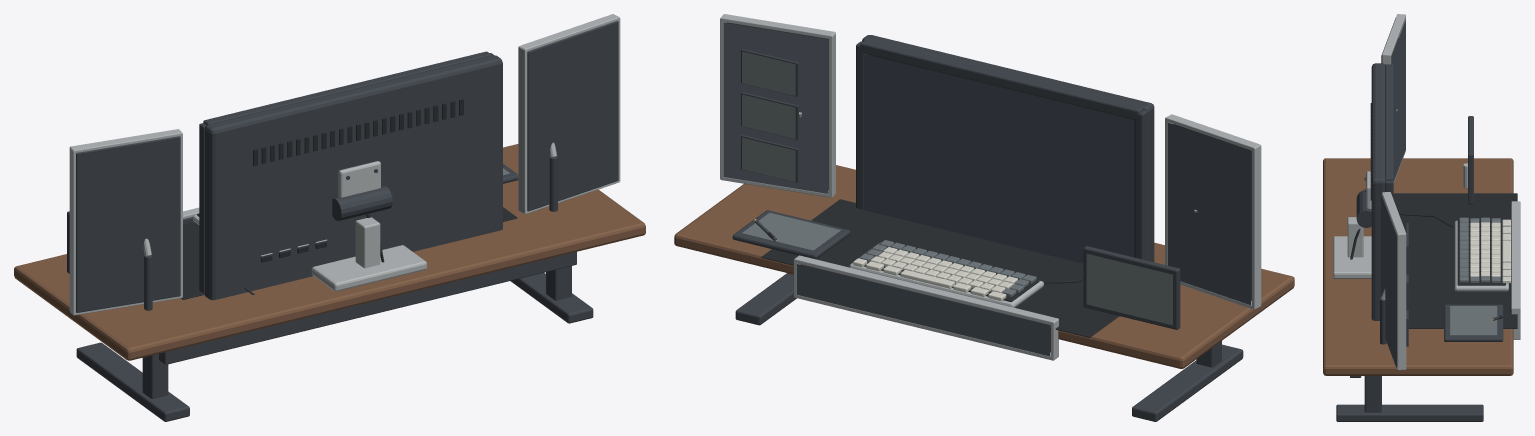
Rendered from fullfilm_v3_workbench.glb.
3 renders of one model, left to right at view 1: azimuth 30°, elevation 25°; view 2: azimuth 150°, elevation 25°; view 3: azimuth 270°, elevation 25°, orthographic. The views are drawn at different scales.
Visible parts, largest first — view 1: Monitor_RearShell, Desk_WalnutSlab, LeftHierarchy_Backplate, RightAssets_Backplate, Desk_RearStretcher, RightAssets_Perimeter, Desk_LowFoot, LeftHierarchy_Perimeter, Monitor_FrontBezel, MonitorStand_WeightedFoot, Monitor_RearVentBank, Desk_LowFoot.001 (+6 smaller); view 2: UI_Main_16x9, Desk_WalnutSlab, UI_LeftHierarchy, Desk_DeskMat, UI_RightAssets, UI_Timeline, Monitor_FrontBezel, UI_LowReadingCard, Timeline_Perimeter, Monitor_RearShell, Keyboard_IvoryKeycaps, LeftHierarchy_Perimeter (+11 smaller); view 3: Desk_WalnutSlab, Desk_DeskMat, Monitor_RearShell, Desk_LowFoot.001, Keyboard_IvoryKeycaps, RightAssets_Backplate, RightAssets_Perimeter, UI_LeftHierarchy, PenTablet_ActiveArea, MonitorStand_WeightedFoot, Timeline_Perimeter, Monitor_FrontBezel (+10 smaller).
Boxes of the visible parts, x1=… form: Monitor_RearShell: x1=204, y1=55, x2=502, y2=300; Desk_WalnutSlab: x1=14, y1=144, x2=645, y2=360; LeftHierarchy_Backplate: x1=76, y1=136, x2=180, y2=312; RightAssets_Backplate: x1=527, y1=20, x2=618, y2=211; Desk_RearStretcher: x1=159, y1=252, x2=576, y2=364; RightAssets_Perimeter: x1=518, y1=14, x2=620, y2=214; Desk_LowFoot: x1=76, y1=342, x2=189, y2=421; LeftHierarchy_Perimeter: x1=69, y1=129, x2=182, y2=315; Monitor_FrontBezel: x1=199, y1=51, x2=493, y2=293; MonitorStand_WeightedFoot: x1=311, y1=245, x2=426, y2=291; Monitor_RearVentBank: x1=253, y1=99, x2=463, y2=165; Desk_LowFoot.001: x1=510, y1=273, x2=593, y2=323; UI_Main_16x9: x1=864, y1=54, x2=1133, y2=263; Desk_WalnutSlab: x1=674, y1=165, x2=1294, y2=368; UI_LeftHierarchy: x1=1168, y1=122, x2=1250, y2=305; Desk_DeskMat: x1=761, y1=199, x2=1119, y2=337; UI_RightAssets: x1=723, y1=22, x2=828, y2=193; UI_Timeline: x1=797, y1=264, x2=1049, y2=356; Monitor_FrontBezel: x1=856, y1=40, x2=1147, y2=260; UI_LowReadingCard: x1=1086, y1=254, x2=1172, y2=325; Timeline_Perimeter: x1=793, y1=255, x2=1058, y2=360; Monitor_RearShell: x1=862, y1=35, x2=1154, y2=262; Keyboard_IvoryKeycaps: x1=853, y1=247, x2=1017, y2=300; LeftHierarchy_Perimeter: x1=1165, y1=114, x2=1261, y2=309; Desk_WalnutSlab: x1=1323, y1=158, x2=1513, y2=375; Desk_DeskMat: x1=1393, y1=193, x2=1517, y2=328; Monitor_RearShell: x1=1371, y1=63, x2=1385, y2=320; Desk_LowFoot.001: x1=1336, y1=404, x2=1483, y2=421; Keyboard_IvoryKeycaps: x1=1470, y1=219, x2=1510, y2=283; RightAssets_Backplate: x1=1381, y1=195, x2=1397, y2=367; RightAssets_Perimeter: x1=1382, y1=192, x2=1406, y2=370; UI_LeftHierarchy: x1=1392, y1=20, x2=1405, y2=181; PenTablet_ActiveArea: x1=1450, y1=306, x2=1497, y2=335; MonitorStand_WeightedFoot: x1=1333, y1=236, x2=1371, y2=278; Timeline_Perimeter: x1=1511, y1=201, x2=1520, y2=339; Monitor_FrontBezel: x1=1385, y1=64, x2=1393, y2=198.
Bounding box in the file's own units: 1.59 × 0.7241 × 0.6038.
